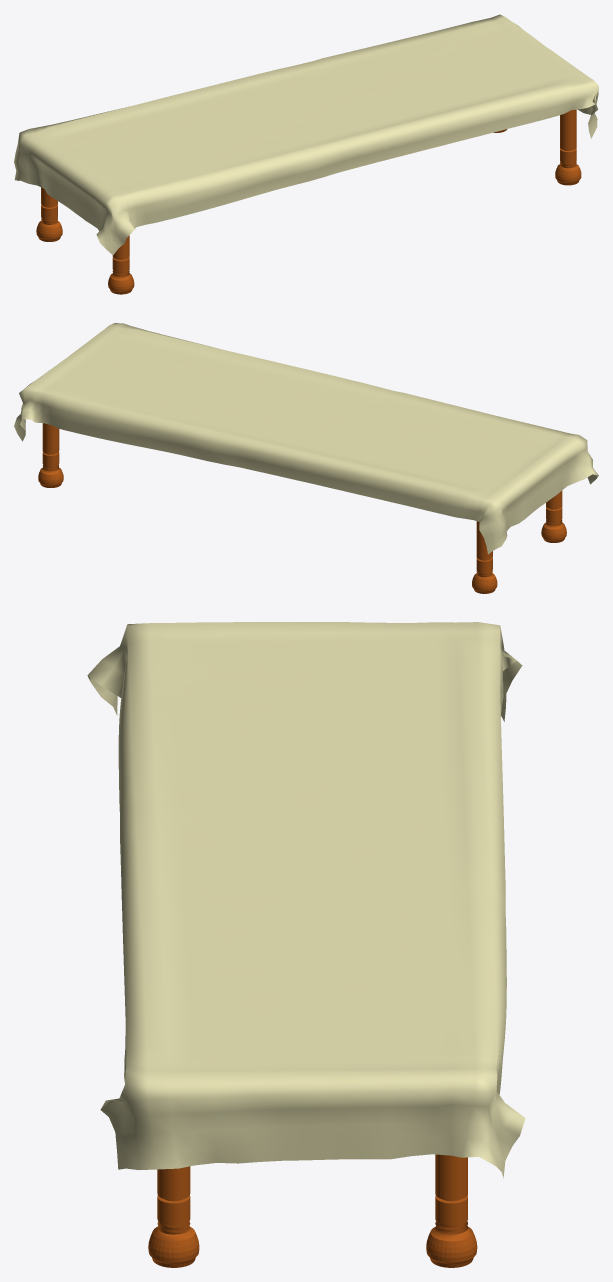
File: Table n°3 (Grande)(Blanche).fbx
The picture shows the model from 3 angles, top to bottom: view 1: azimuth 30°, elevation 25°; view 2: azimuth 150°, elevation 25°; view 3: azimuth 270°, elevation 25°; orthographic projection. The views are drawn at different scales.
Visible parts, largest first — view 1: Plane, Cube; view 2: Plane, Cube; view 3: Plane, Cube.
Part boxes in pixels (x1,y1,x2,y2): Plane: (14,14,598,254); Cube: (36,109,581,294); Plane: (14,323,598,554); Cube: (38,423,566,593); Plane: (87,622,525,1178); Cube: (148,1154,477,1267).
Bounding box in the file's own units: 586 × 114 × 225.
